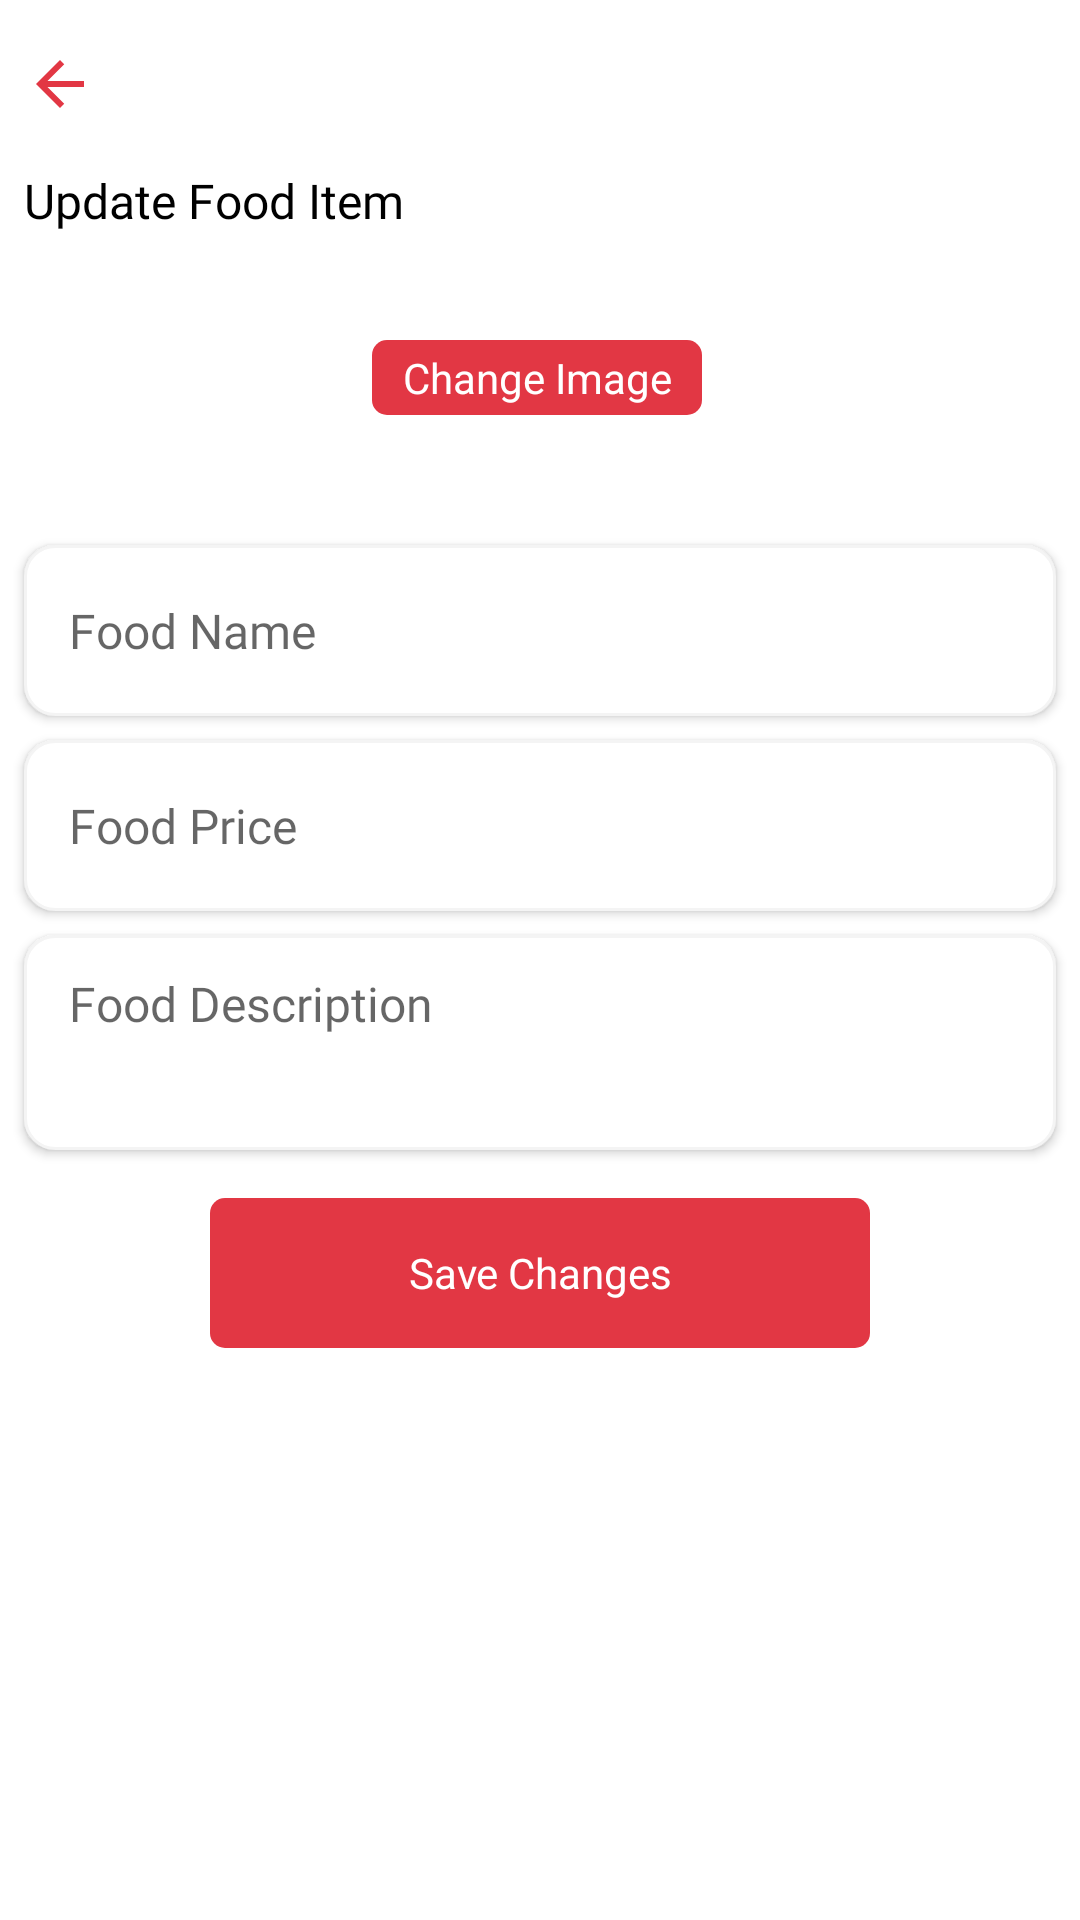

Icon bounding boxes for this 1080×1920 phone screenshot, format (x1, y1, x2, y2):
back navigation: (36, 60, 84, 108)
